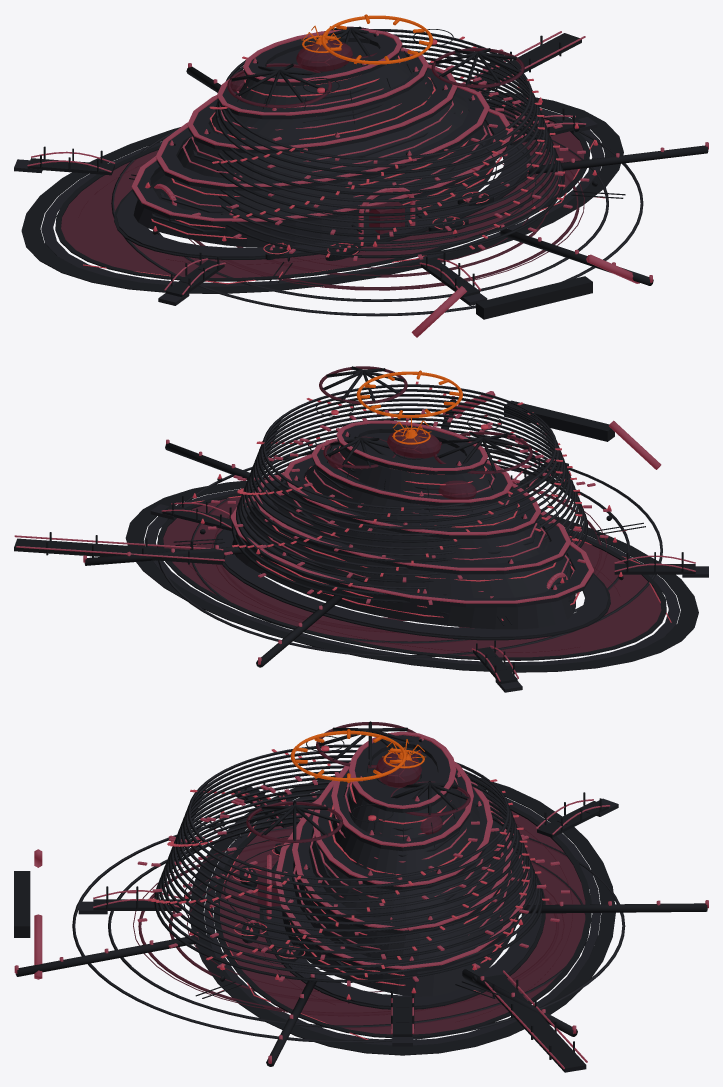
Rendered from relationships-ext-hero.glb.
3 views of the same model, one above another, from view 1: azimuth 30°, elevation 25°; view 2: azimuth 150°, elevation 25°; view 3: azimuth 270°, elevation 25° (orthographic). The views are drawn at different scales.
Parts seen in each view (by area): view 1: relationships_s86_base_hero_mesh, relationships_s86_detail_hero_mesh, relationships_s86_glass_hero_mesh, relationships_s86_accent_hero_mesh, relationships_s86_emissive_hero_mesh, relationships_s86_energy_hero_mesh; view 2: relationships_s86_base_hero_mesh, relationships_s86_detail_hero_mesh, relationships_s86_glass_hero_mesh, relationships_s86_accent_hero_mesh, relationships_s86_emissive_hero_mesh, relationships_s86_energy_hero_mesh; view 3: relationships_s86_base_hero_mesh, relationships_s86_detail_hero_mesh, relationships_s86_glass_hero_mesh, relationships_s86_accent_hero_mesh, relationships_s86_emissive_hero_mesh, relationships_s86_energy_hero_mesh.
Boxes of the visible parts, x1,y1,x2,y2 form: relationships_s86_base_hero_mesh: (14, 29, 643, 316); relationships_s86_detail_hero_mesh: (21, 26, 708, 319); relationships_s86_glass_hero_mesh: (61, 26, 584, 290); relationships_s86_accent_hero_mesh: (27, 29, 708, 337); relationships_s86_emissive_hero_mesh: (83, 36, 604, 284); relationships_s86_energy_hero_mesh: (301, 14, 432, 64); relationships_s86_base_hero_mesh: (144, 384, 708, 692); relationships_s86_detail_hero_mesh: (14, 366, 698, 683); relationships_s86_glass_hero_mesh: (163, 366, 661, 660); relationships_s86_accent_hero_mesh: (14, 391, 695, 681); relationships_s86_emissive_hero_mesh: (192, 381, 671, 622); relationships_s86_energy_hero_mesh: (356, 370, 462, 444); relationships_s86_base_hero_mesh: (72, 735, 625, 1046); relationships_s86_detail_hero_mesh: (14, 721, 707, 1072); relationships_s86_glass_hero_mesh: (133, 722, 585, 1034); relationships_s86_accent_hero_mesh: (14, 731, 708, 1069); relationships_s86_emissive_hero_mesh: (148, 745, 549, 1039); relationships_s86_energy_hero_mesh: (290, 729, 425, 782).
Bounding box in the file's own units: 29.61 × 7.68 × 27.52.
